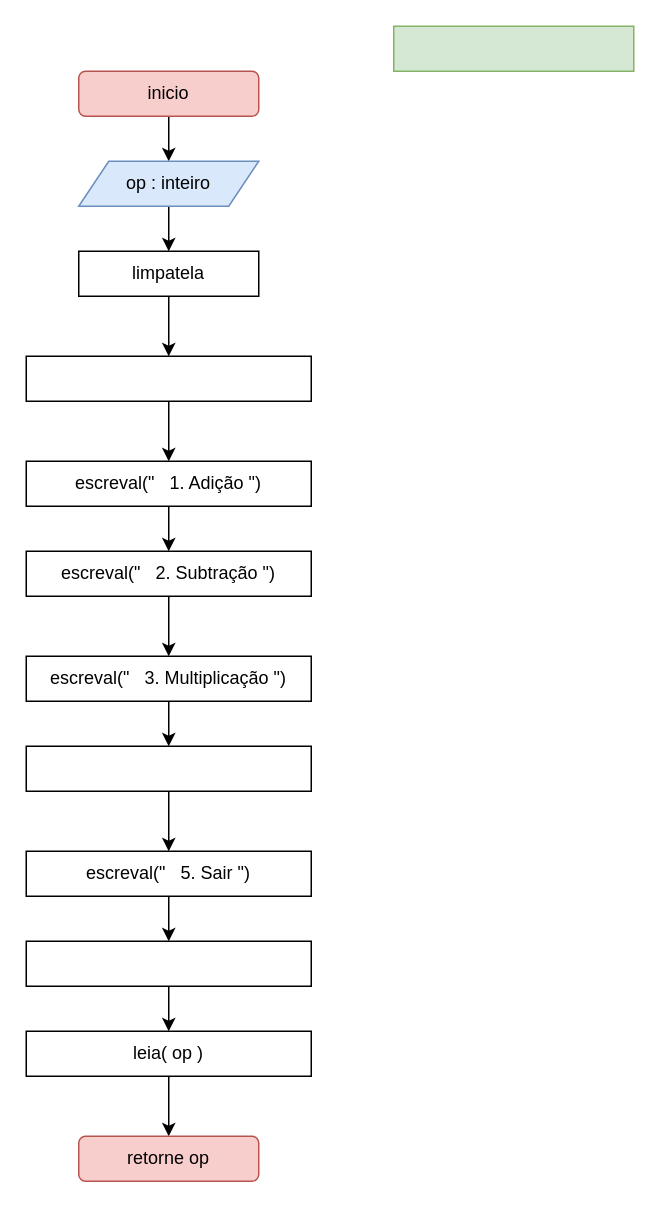
The diagram is 660 pixels wide and 1208 high, and some of its shapes have lost their labels. The shapes that lost their labels are listed below. From the top down, each one's centre as x and y in pixels, then its label:
point 513,48: opcao <- mostrar_menu()
point 168,378: escreval(".:: Calculadora ::.")
point 168,768: escreval(" 4. Divisão ")
point 168,963: escreva("Opcao: ")
